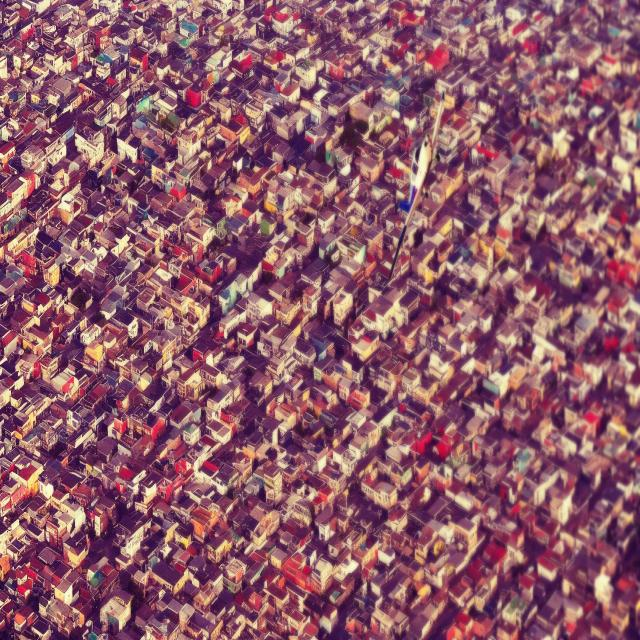airplane: (385, 92, 445, 284)
